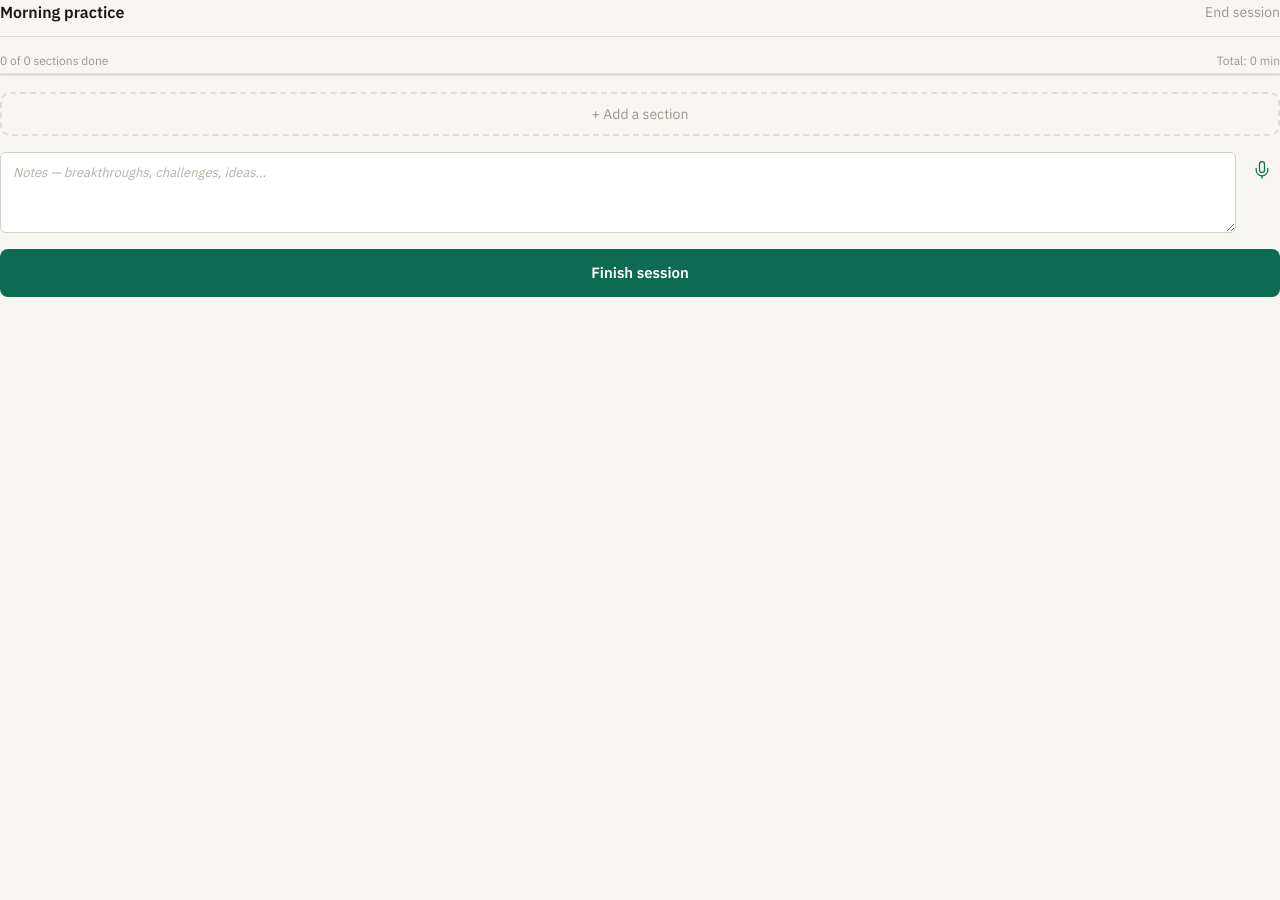
Test case: ActiveSessionPage — End session › opens a confirmation dialog instead of a native confirm
Expected: the heading "Morning practice" is shown, [0,2,124,22]
Click the button "End session".
click(1243, 12)  # box [1205,2,1279,22]
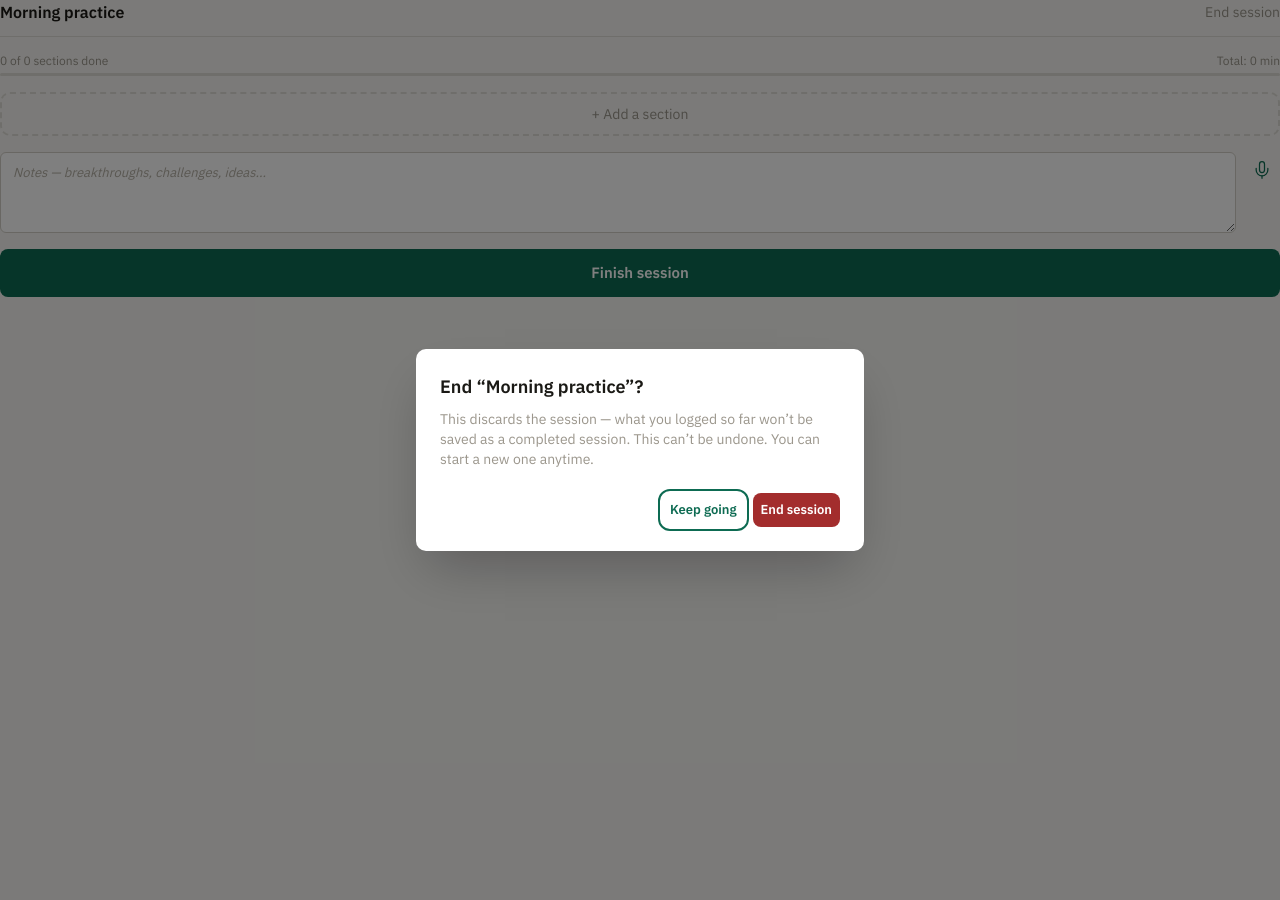
Now the dialog shows "End “Morning practice”?", box [440,375,643,398]
Now the dialog shows "This can’t be undone.", box [440,410,820,468]
